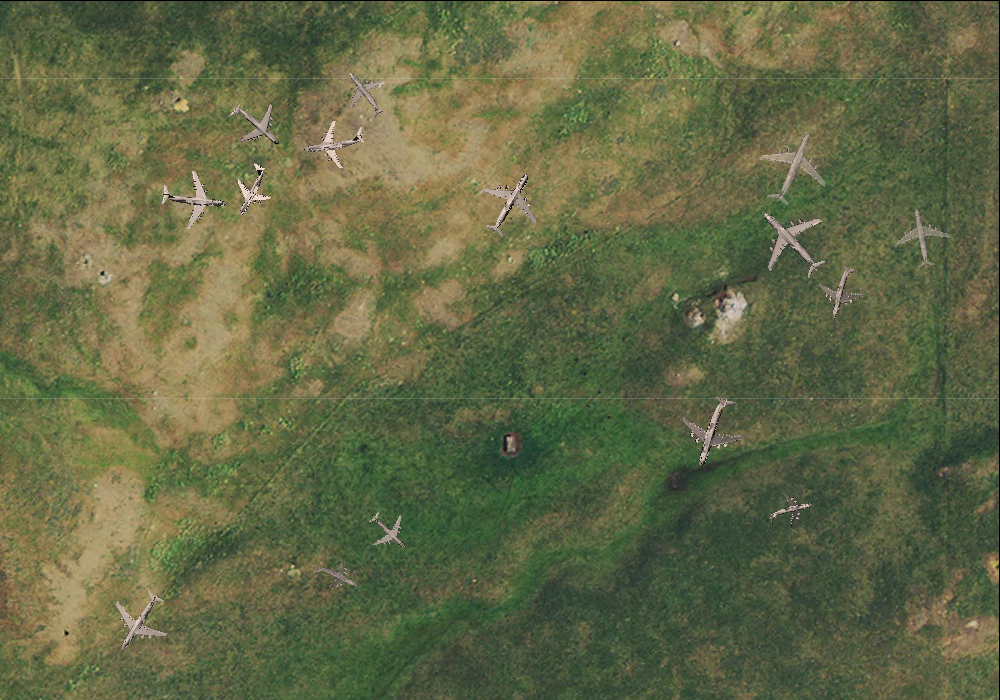plane: (737, 187, 846, 296), (744, 116, 843, 217), (465, 157, 555, 249), (669, 386, 757, 477), (96, 578, 182, 665), (216, 86, 295, 165), (329, 58, 400, 129), (157, 164, 229, 233), (888, 202, 955, 273), (217, 155, 284, 224), (299, 110, 368, 174), (810, 260, 873, 324), (358, 501, 418, 562), (305, 548, 365, 606), (763, 485, 817, 537)
